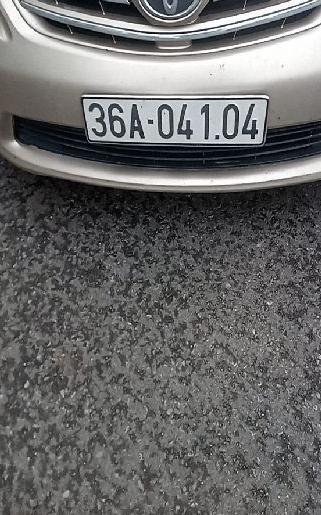Plate-iWeP: (81, 96, 273, 147)
